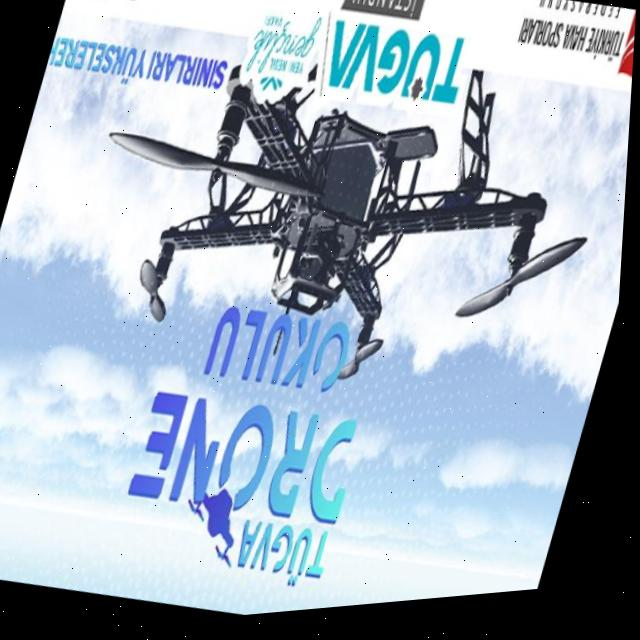drones: (31, 0, 638, 485)
